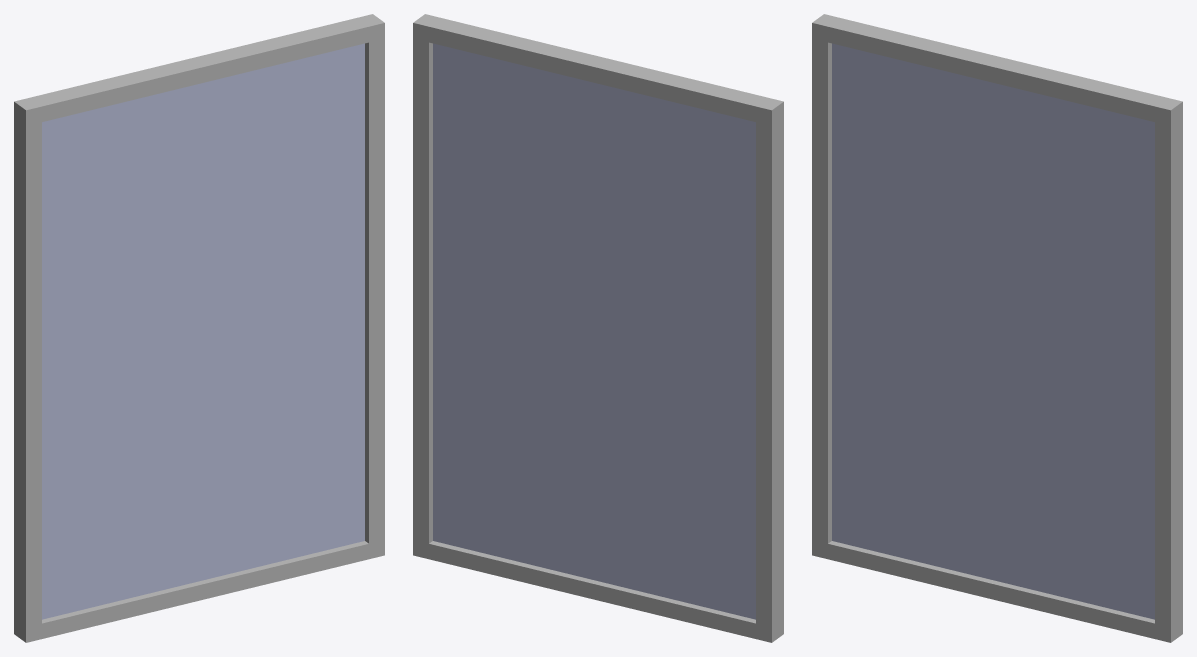
File: Window_02_B_SM.FBX
The picture shows the model from 3 angles, left to right: view 1: azimuth 30°, elevation 25°; view 2: azimuth 150°, elevation 25°; view 3: azimuth 330°, elevation 25°; orthographic projection.
Visible parts, largest first — view 1: Window_02_B_SM; view 2: Window_02_B_SM; view 3: Window_02_B_SM.
Part boxes in pixels (x1,y1,x2,y2): Window_02_B_SM: (14, 14, 384, 642); Window_02_B_SM: (413, 14, 783, 642); Window_02_B_SM: (812, 14, 1182, 642).
Size of the model in its own units: 128 by 7.46 by 182.
